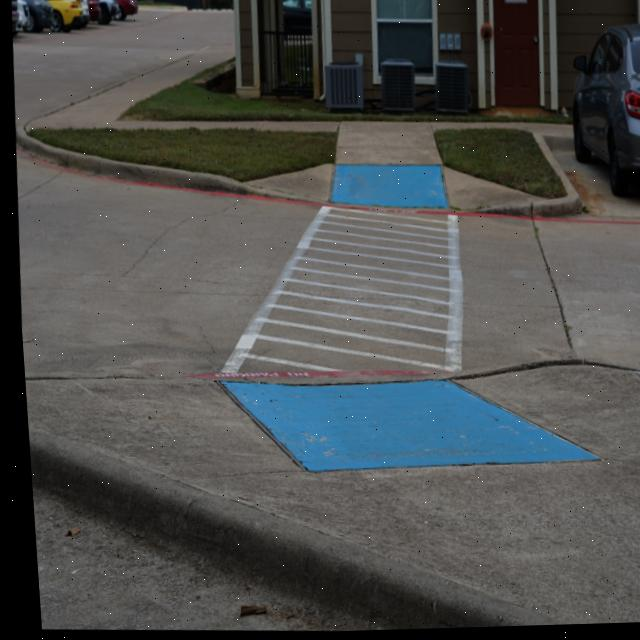Automobile: (570, 28, 640, 199), (45, 0, 88, 31), (16, 0, 52, 32), (282, 0, 311, 35), (88, 0, 122, 24), (116, 0, 137, 19), (11, 0, 18, 34)
Obstacle: (323, 63, 362, 112), (433, 63, 468, 116), (379, 61, 413, 113)
Road: (13, 138, 640, 374), (25, 478, 454, 633)
Sidewalk: (20, 368, 640, 629), (23, 44, 574, 210)
